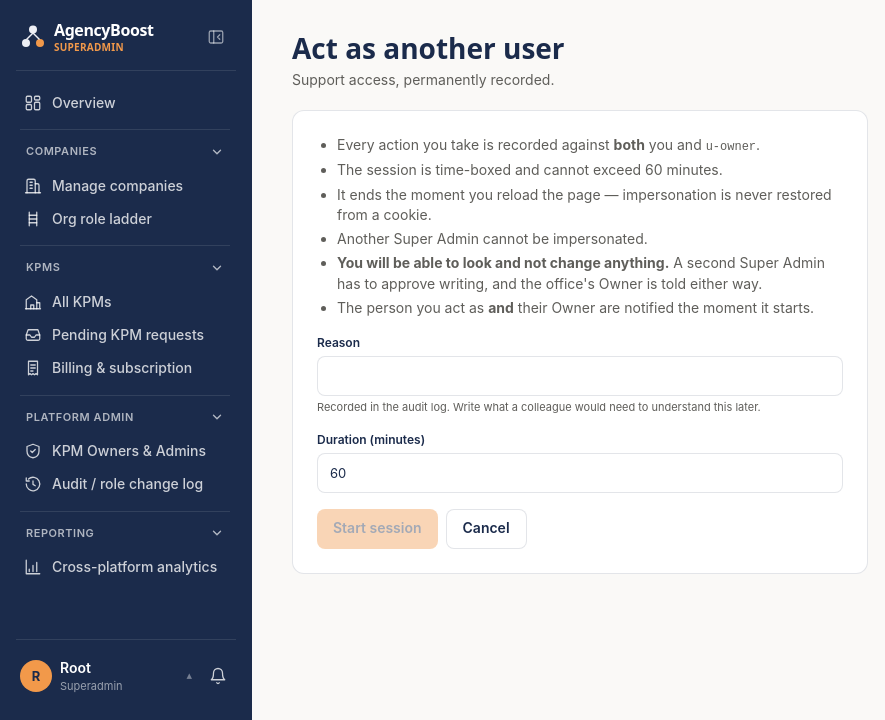
start impersonation › P13.2 exit review: an office nobody can use is refused here, as this screen’s error
The image size is (885, 720).
Type "support ticket 42" into the field labelled "Reason" at (580, 376), box [317,356,843,396]
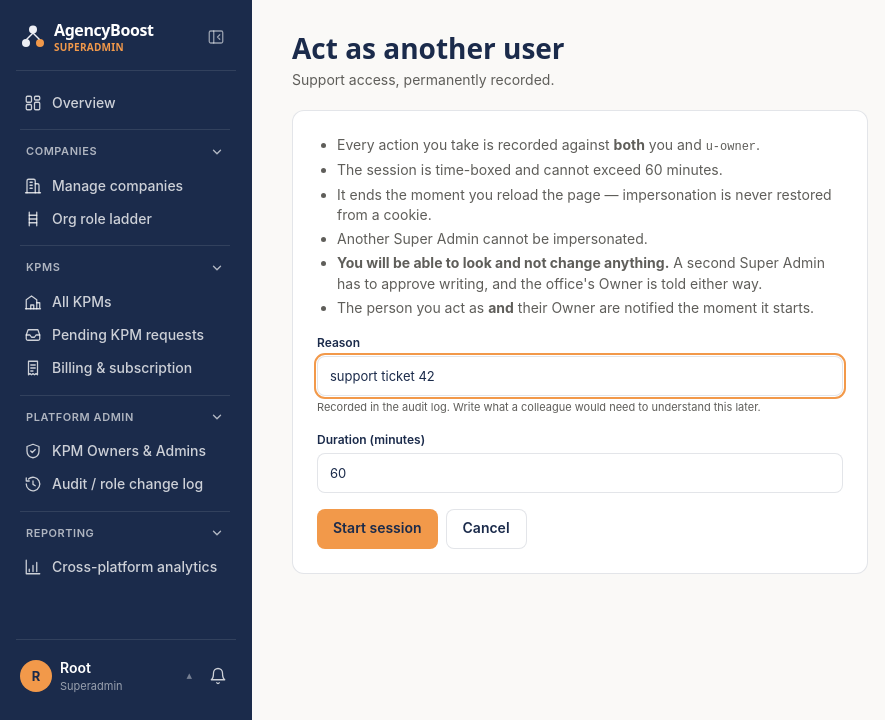
Click the button "Start session" at (377, 528), box [317,508,438,548]
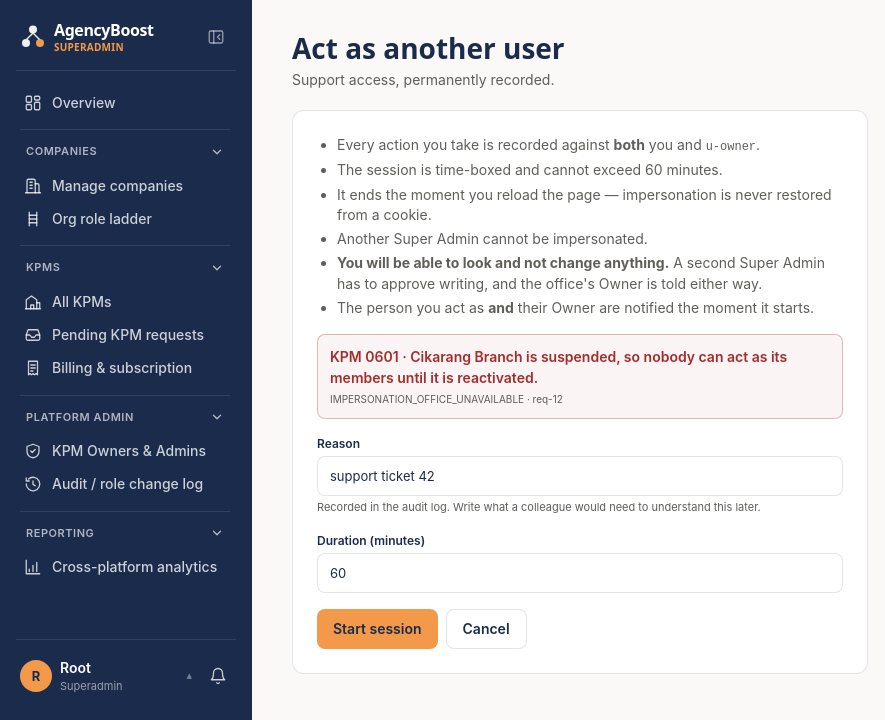
expect the heading "Act as another user" is shown: met, box [292,32,565,66]
expect the message shows "KPM 0601 · Cikarang Branch is suspended, so nobody can act as its members until it is reactivated.": met, box [330,348,787,386]
